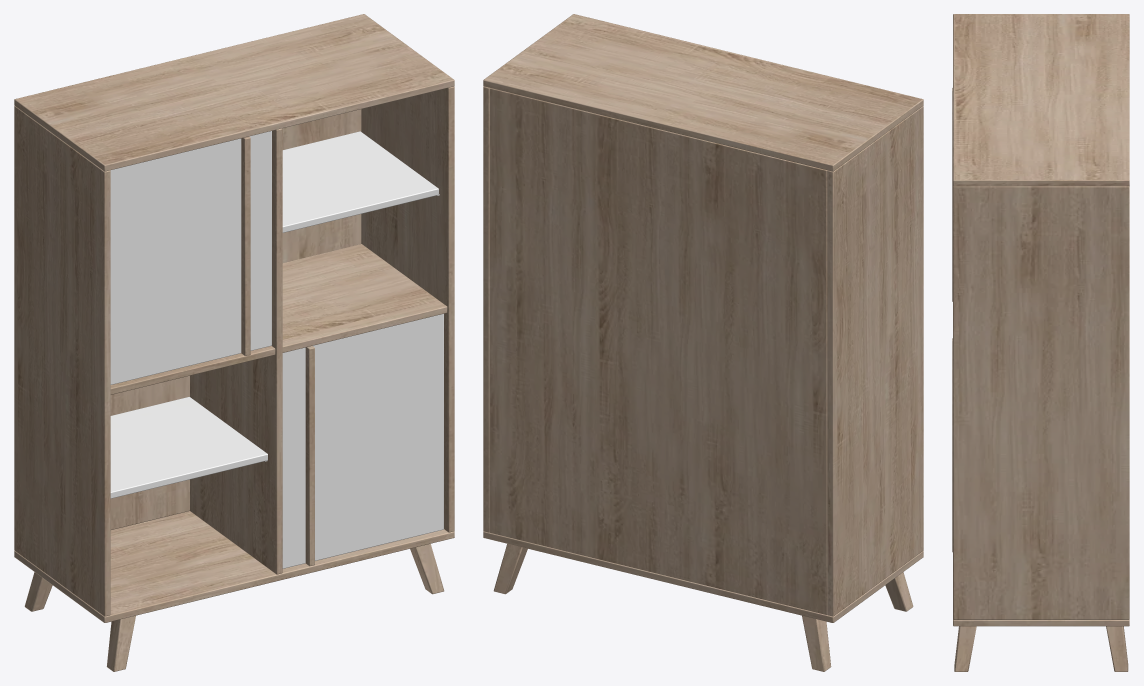
File: abo-B07H8P1N9T.glb
The picture shows the model from 3 angles, left to right: view 1: azimuth 30°, elevation 25°; view 2: azimuth 150°, elevation 25°; view 3: azimuth 270°, elevation 25°; orthographic projection. The views are drawn at different scales.
Size of the model in its own units: 1 by 1.39 by 0.45.
Materials: 1 (1 with a texture image).
